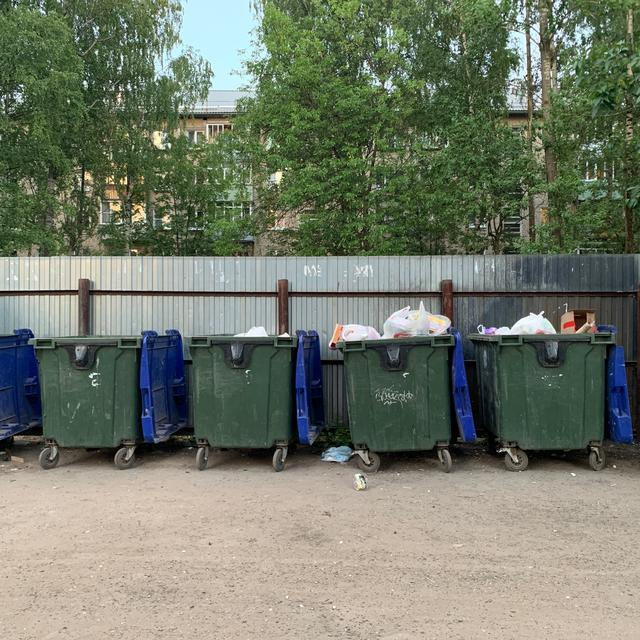Trash_Can_Empty: (28, 334, 141, 447)
Trash_Can_Full: (466, 307, 615, 449), (330, 303, 453, 452), (185, 325, 296, 449)
